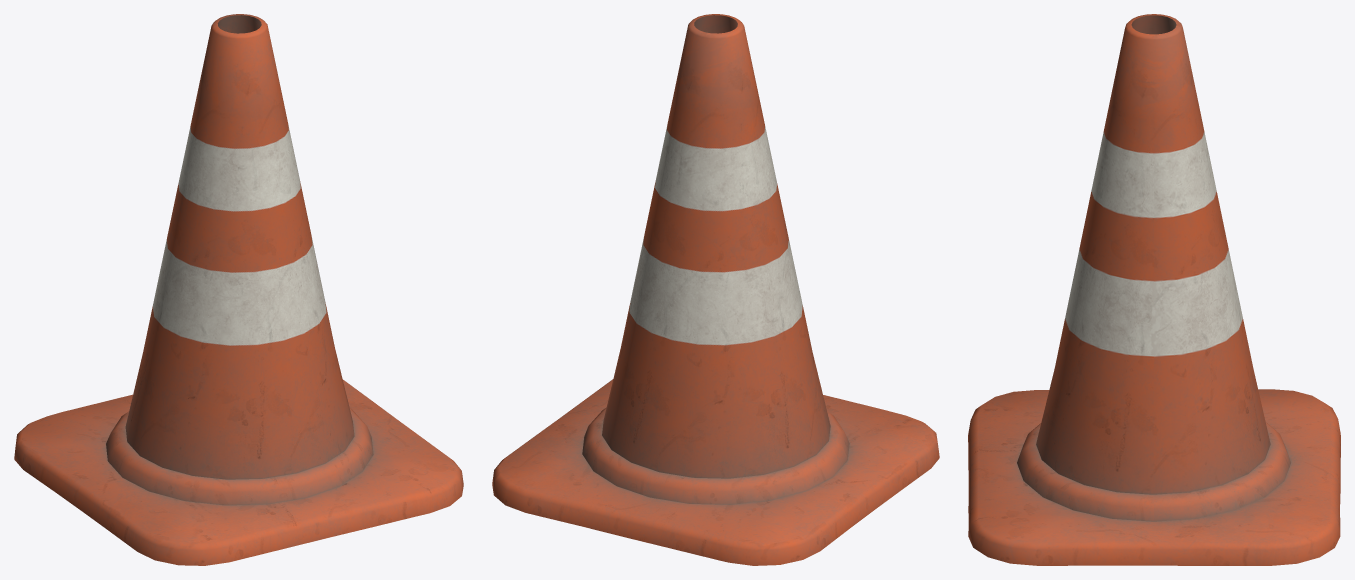
File: traffic_cone.glb
3 renders of one model, left to right at view 1: azimuth 30°, elevation 25°; view 2: azimuth 150°, elevation 25°; view 3: azimuth 270°, elevation 25°, orthographic. The views are drawn at different scales.
Parts seen in each view (by area): view 1: Circle.001; view 2: Circle.001; view 3: Circle.001.
Part boxes in pixels (box(x1,y1,x2,y2)): Circle.001: box(14, 14, 463, 565); Circle.001: box(492, 14, 939, 565); Circle.001: box(968, 14, 1340, 565).
Bounding box in the file's own units: 0.5054 × 0.677 × 0.4957.
Materials: 1 (1 with a texture image).
